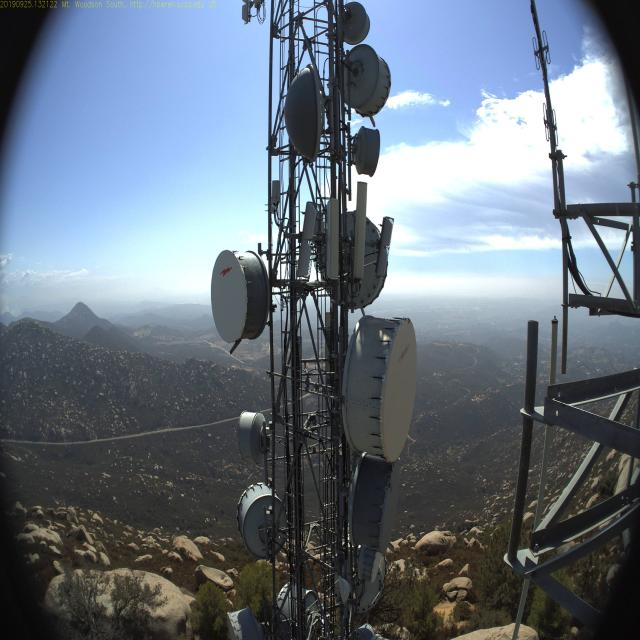smoke: (0, 288, 24, 316)
